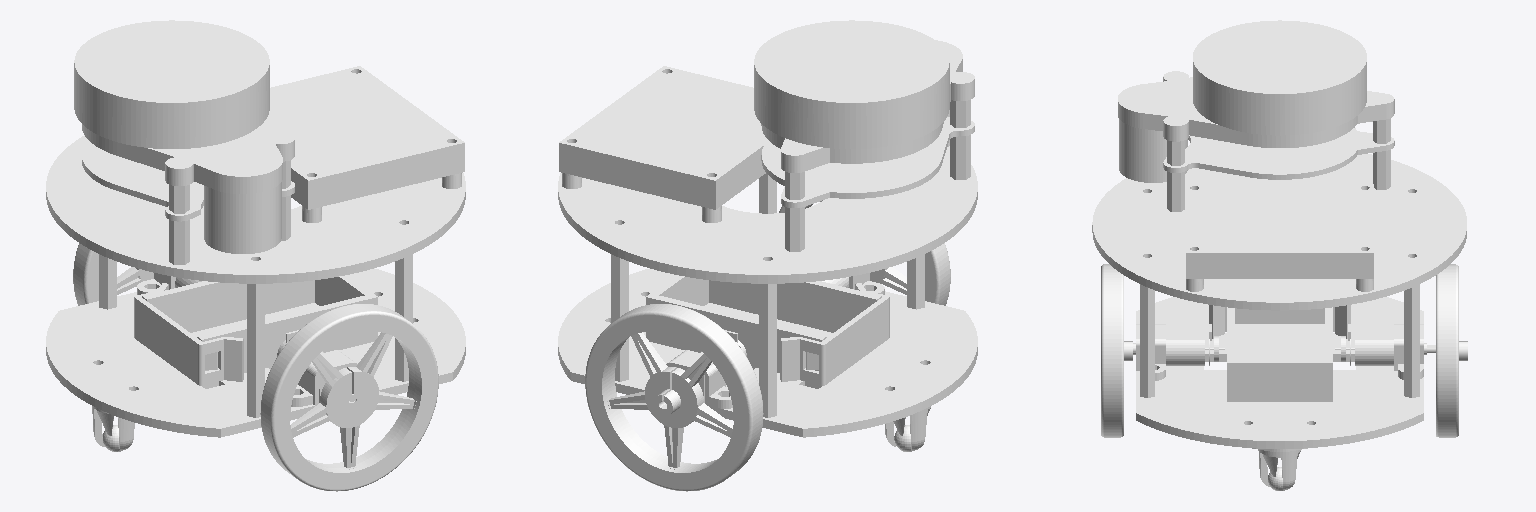
robot.urdf — lightrover_e32_robot:
<?xml version="1.0"?>
<robot name="lightrover_e32_robot">

  <material name="lightrover_e32_white">
    <color rgba="1 1 1 1"/>
  </material>

  <!-- ROS convention:
       base_link +X forward, +Y left, +Z up
  -->
  <link name="base_link">
    <visual>
      <origin xyz="0 0 0.02575" rpy="1.5708 0 1.5708"/>
      <geometry>
        <mesh filename="package://lightrover_e32_description/meshes/body.stl"
              scale="0.001 0.001 0.001"/>
      </geometry>
      <material name="lightrover_e32_white"/>
    </visual>
  </link>

  <link name="left_wheel_link">
    <visual>
      <origin xyz="0 0 0" rpy="0 0 -1.5708"/>
      <geometry>
        <mesh filename="package://lightrover_e32_description/meshes/wheel.stl"/>
      </geometry>
      <material name="lightrover_e32_white"/>
    </visual>
  </link>

  <joint name="base_to_left_wheel" type="fixed">
    <parent link="base_link"/>
    <child link="left_wheel_link"/>
    <origin xyz="0 0.058 0.030" rpy="0 0 0"/>
  </joint>

  <link name="right_wheel_link">
    <visual>
      <origin xyz="0 0 0" rpy="0 0 -1.5708"/>
      <geometry>
        <mesh filename="package://lightrover_e32_description/meshes/wheel.stl"/>
      </geometry>
      <material name="lightrover_e32_white"/>
    </visual>
  </link>

  <joint name="base_to_right_wheel" type="fixed">
    <parent link="base_link"/>
    <child link="right_wheel_link"/>
    <origin xyz="0 -0.058 0.030" rpy="0 0 0"/>
  </joint>

  <link name="laser_frame">
    <visual>
      <origin xyz="0 0 0" rpy="1.5708 0 0"/>
      <geometry>
        <mesh filename="package://lightrover_e32_description/meshes/lidar.stl"/>
      </geometry>
      <material name="lightrover_e32_white"/>
    </visual>
  </link>
  <joint name="base_to_laser" type="fixed">
    <parent link="base_link"/>
    <child link="laser_frame"/>
    <origin xyz="-0.030 0 0.1125" rpy="0 0 -1.5708"/>
  </joint>

  <link name="imu_link"/>
  <joint name="base_to_imu" type="fixed">
    <parent link="base_link"/>
    <child link="imu_link"/>
    <origin xyz="0.052 0 0.0416" rpy="0 0 -1.5708"/>
  </joint>

</robot>

--- Render facts (derived) ---
3 views of the same robot in one strip: view 1: azimuth 30°, elevation 25°; view 2: azimuth 150°, elevation 25°; view 3: azimuth 270°, elevation 25° (orthographic).
Robot: lightrover_e32_robot — 5 links, 4 joints (4 fixed); root link base_link; default pose: every joint at zero.
Links seen in each view (by area): view 1: base_link, laser_frame, right_wheel_link, left_wheel_link; view 2: base_link, laser_frame, left_wheel_link, right_wheel_link; view 3: base_link, laser_frame, left_wheel_link, right_wheel_link.
Link boxes in pixels (box(x1,y1,x2,y2)): base_link: box(46, 66, 465, 451); laser_frame: box(74, 20, 294, 264); right_wheel_link: box(260, 304, 438, 491); left_wheel_link: box(73, 243, 153, 305); base_link: box(558, 66, 977, 451); laser_frame: box(754, 20, 974, 251); left_wheel_link: box(585, 304, 763, 491); right_wheel_link: box(779, 200, 950, 305); base_link: box(1092, 154, 1466, 490); laser_frame: box(1118, 20, 1394, 211); left_wheel_link: box(1436, 264, 1467, 437); right_wheel_link: box(1101, 264, 1132, 437).
Size in the robot's own frame: 0.13 by 0.13 by 0.1283 metres.
Meshes: 3 distinct files referenced, 4 mesh visuals loaded (3 binary STL).
